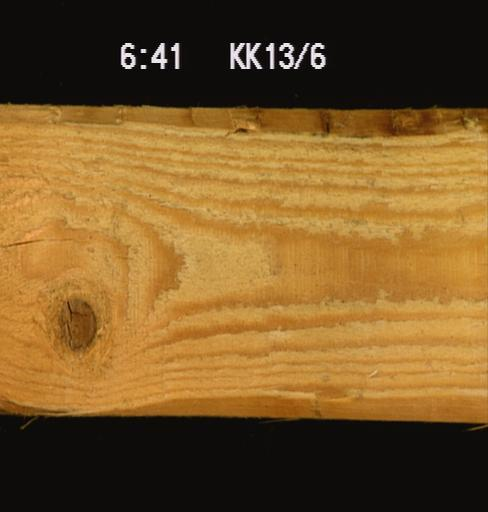dry_knot: (50, 292, 98, 349)
split: (0, 231, 86, 257)
wave: (50, 107, 486, 138), (8, 399, 350, 428)
